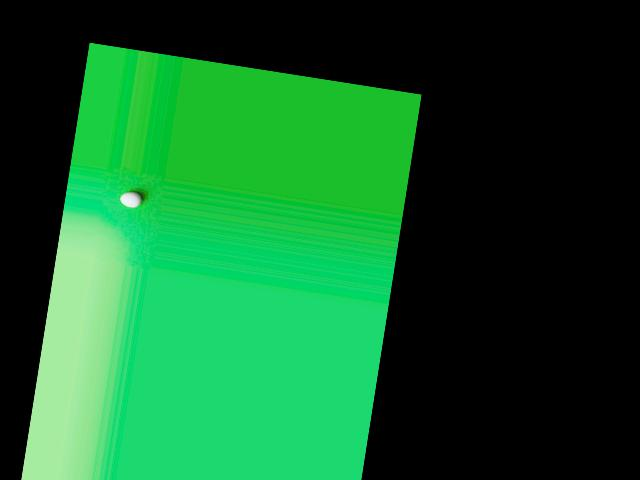egg: (119, 190, 142, 208)
